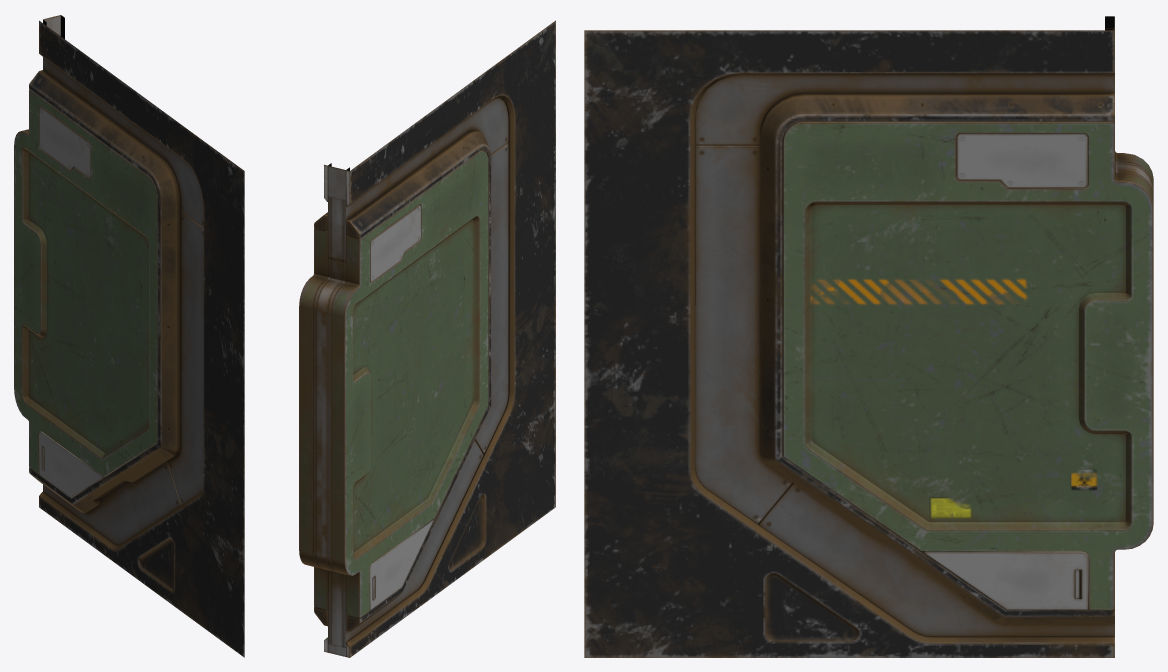
The model's file is SM_CorridorDoor02_DoorL.fbx.
3 renders of one model, left to right at view 1: azimuth 30°, elevation 25°; view 2: azimuth 150°, elevation 25°; view 3: azimuth 270°, elevation 25°, orthographic. The views are drawn at different scales.
Visible parts, largest first — view 1: SM_CorridorDoor02_DoorL_LOD0; view 2: SM_CorridorDoor02_DoorL_LOD0; view 3: SM_CorridorDoor02_DoorL_LOD0.
Boxes of the visible parts, x1,y1,x2,y2 form: SM_CorridorDoor02_DoorL_LOD0: [14, 15, 244, 657]; SM_CorridorDoor02_DoorL_LOD0: [299, 20, 555, 657]; SM_CorridorDoor02_DoorL_LOD0: [584, 16, 1153, 657].
Bounding box in the file's own units: 26.12 × 217 × 264.
Materials: 1 (1 with a texture image).
